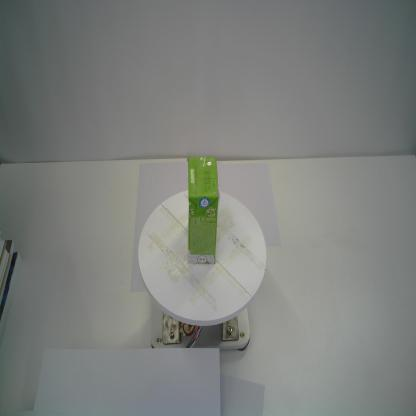Milk: (187, 156, 219, 264)
